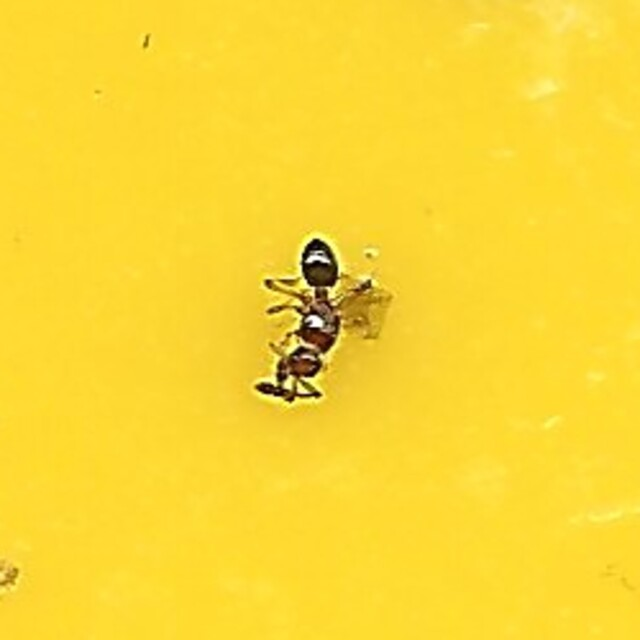Hymenoptera: (256, 239, 384, 401)
